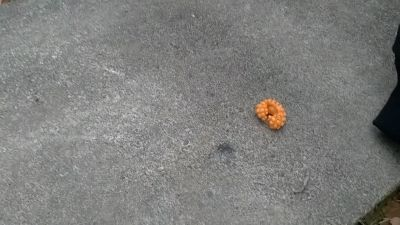eggs: (255, 98, 288, 131)
